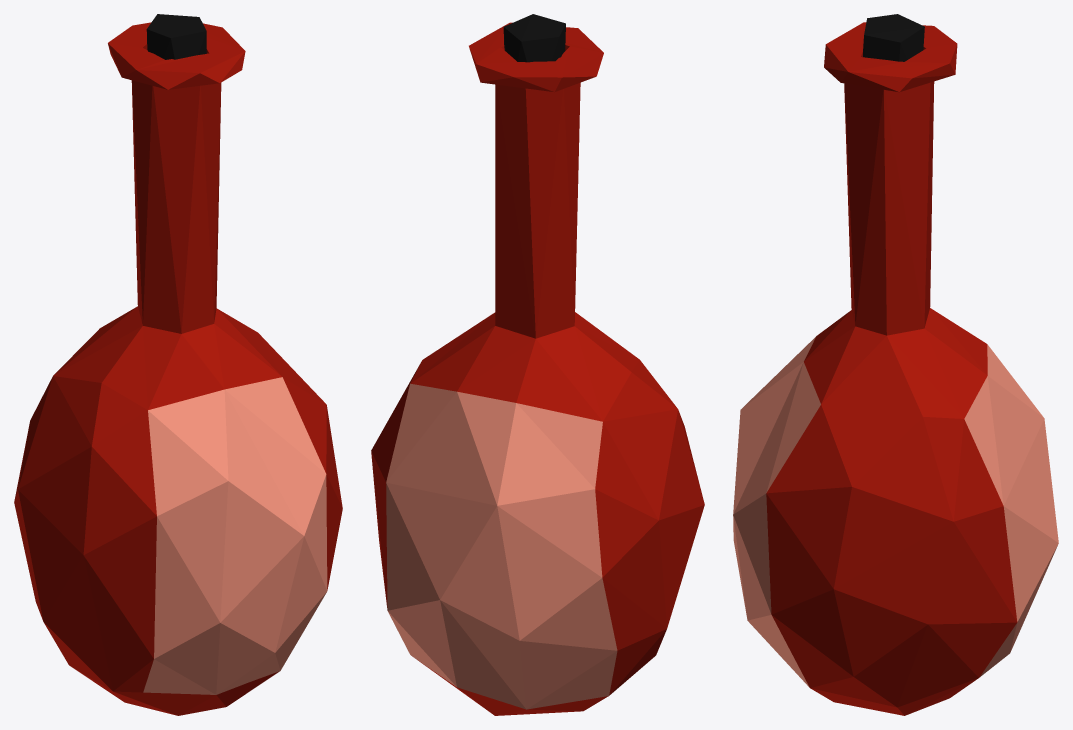
The model's file is Bottle06.fbx.
The picture shows the model from 3 angles, left to right: view 1: azimuth 30°, elevation 25°; view 2: azimuth 150°, elevation 25°; view 3: azimuth 270°, elevation 25°; orthographic projection.
Visible parts, largest first — view 1: Bottle06LowPoly; view 2: Bottle06LowPoly; view 3: Bottle06LowPoly.
Boxes of the visible parts, bbox=[...] form: Bottle06LowPoly: bbox=[14, 14, 342, 715]; Bottle06LowPoly: bbox=[371, 14, 704, 715]; Bottle06LowPoly: bbox=[733, 14, 1058, 715].
Bounding box in the file's own units: 10.9 × 24.95 × 11.06.
